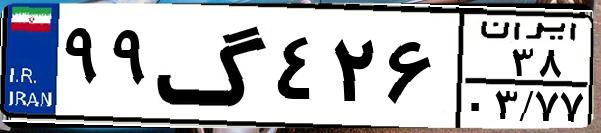0: (470, 70, 495, 125)
2: (330, 28, 385, 110)
3: (508, 27, 537, 80), (495, 70, 520, 125)
4: (270, 28, 330, 110)
6: (385, 28, 445, 110)
7: (560, 70, 590, 125), (535, 70, 560, 125)
8: (537, 27, 568, 80)
9: (57, 26, 110, 100), (110, 28, 156, 98)
گ: (156, 12, 270, 120)
